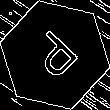P_SE: (25, 24, 85, 86)
